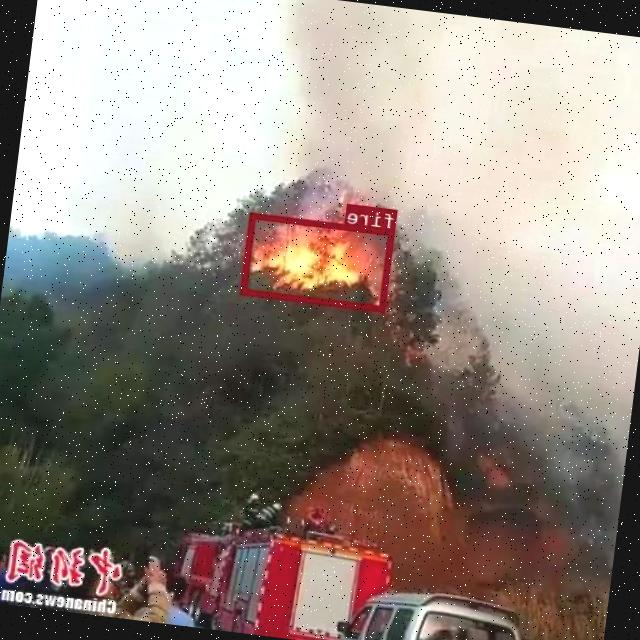fire: (242, 212, 396, 310)
